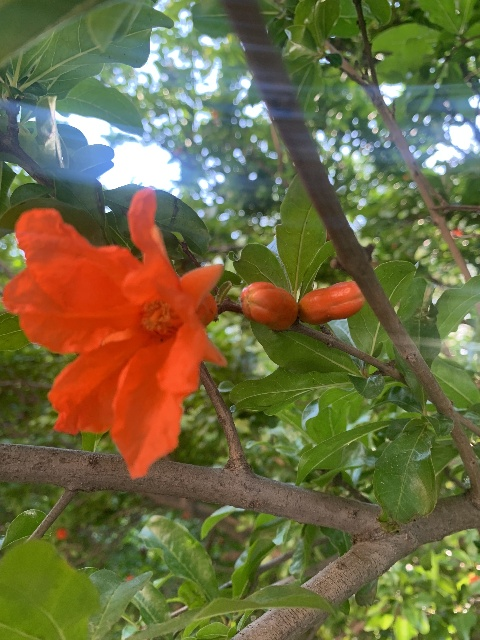bud: (298, 280, 366, 324), (240, 281, 297, 331)
flower: (2, 186, 228, 483)
